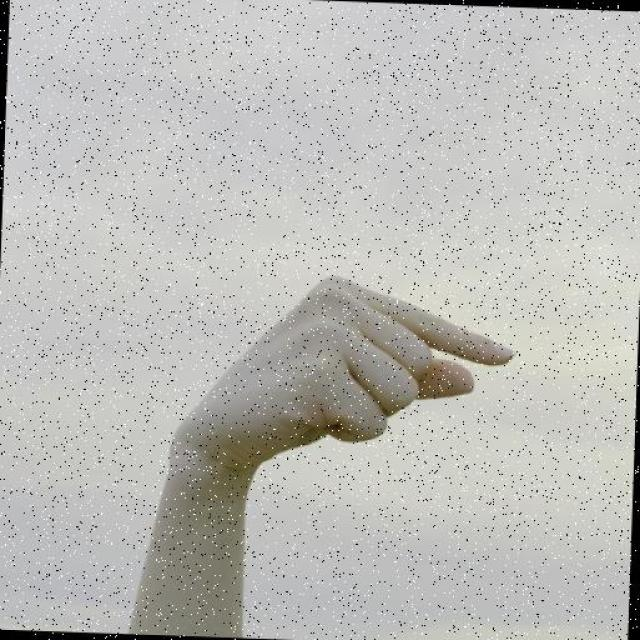G: (166, 268, 526, 511)
